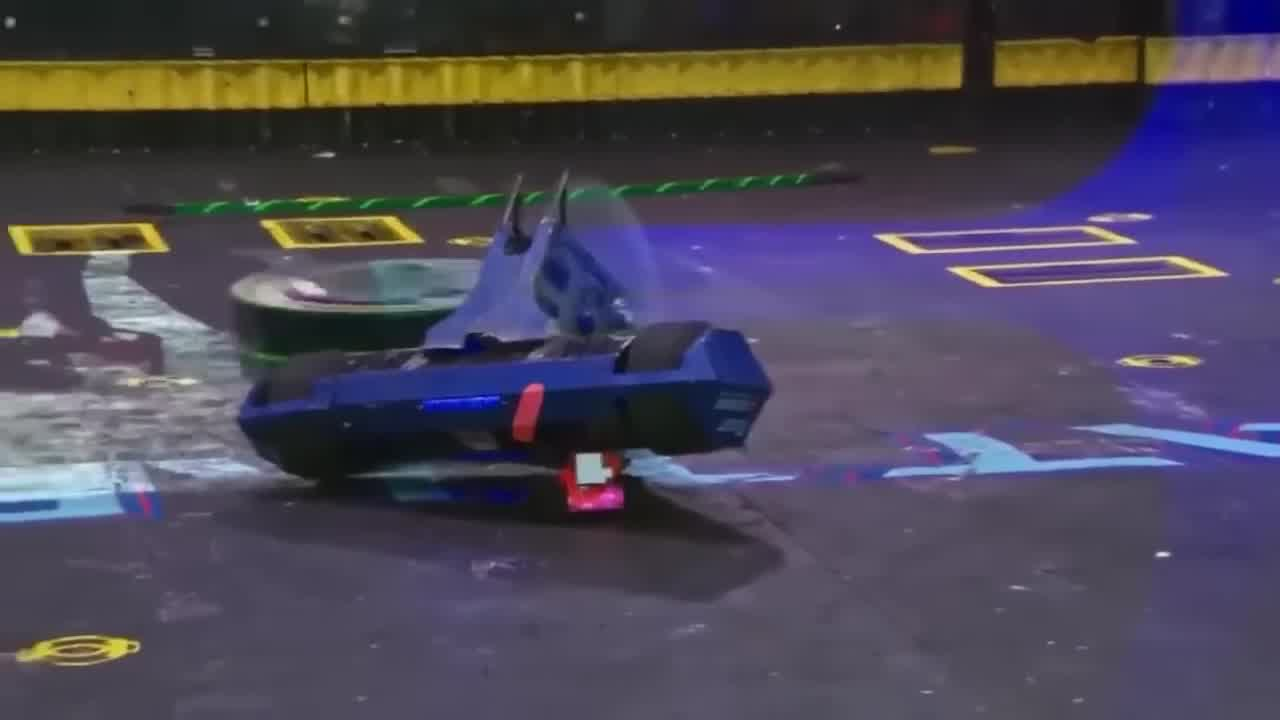combatbot: (227, 219, 772, 472), (233, 237, 498, 363)
